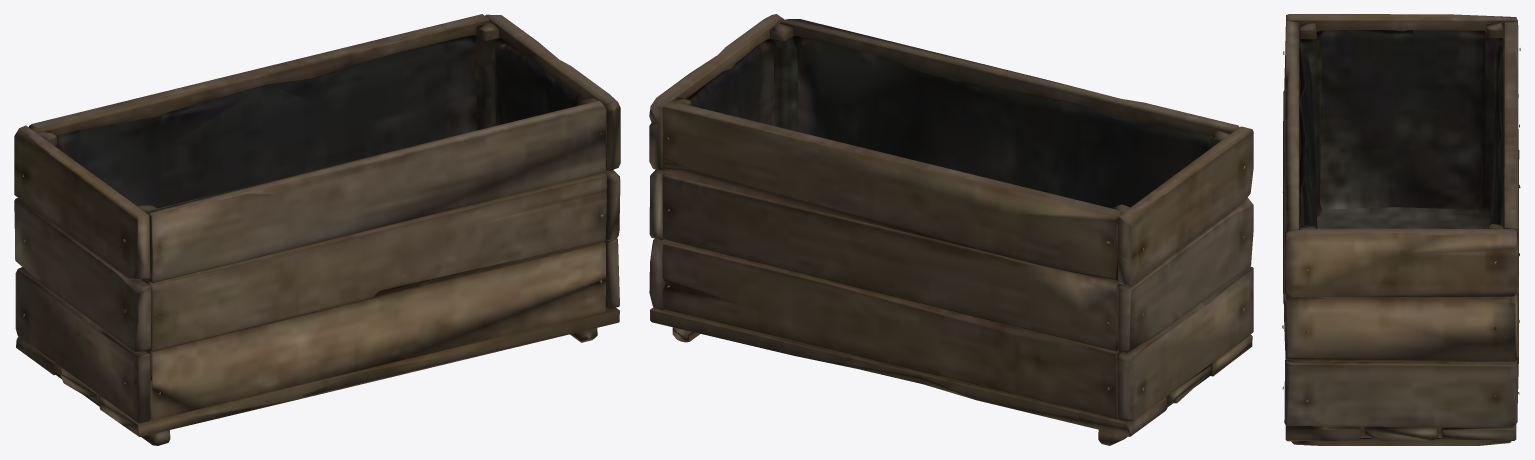
Rendered from planter_box_01.l.f7e759c6.glb.
3 views of the same model, side by side, from view 1: azimuth 30°, elevation 25°; view 2: azimuth 150°, elevation 25°; view 3: azimuth 270°, elevation 25° (orthographic). The views are drawn at different scales.
Parts seen in each view (by area): view 1: planter_box_01; view 2: planter_box_01; view 3: planter_box_01.
Part boxes in pixels (bbox=[...]): planter_box_01: bbox=[14, 14, 620, 445]; planter_box_01: bbox=[649, 14, 1253, 445]; planter_box_01: bbox=[1282, 14, 1520, 445].
Bounding box in the file's own units: 0.9126 × 0.4249 × 0.4136.
1 material, 1 textured.
